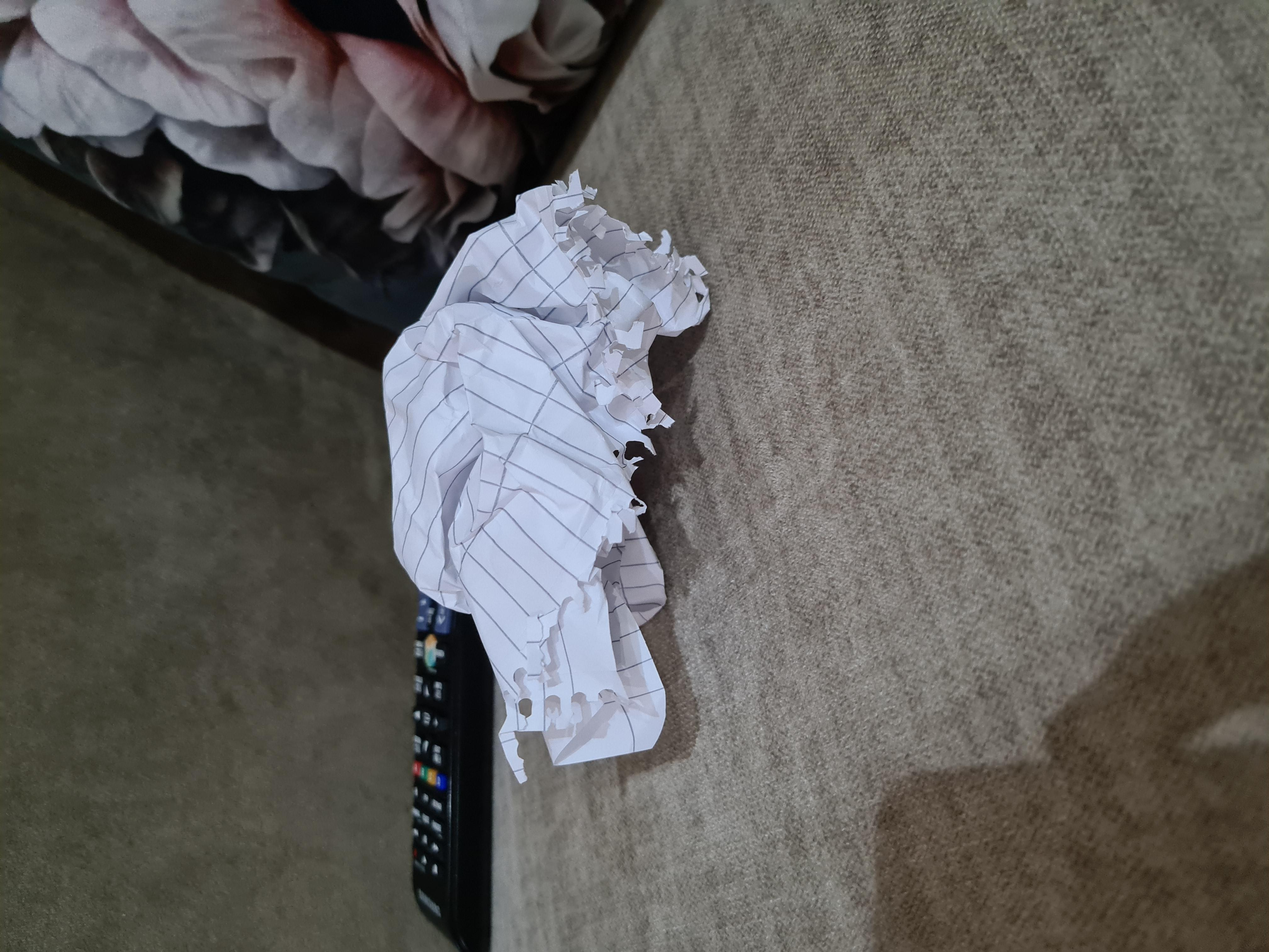paper: (244, 293, 1034, 513)
